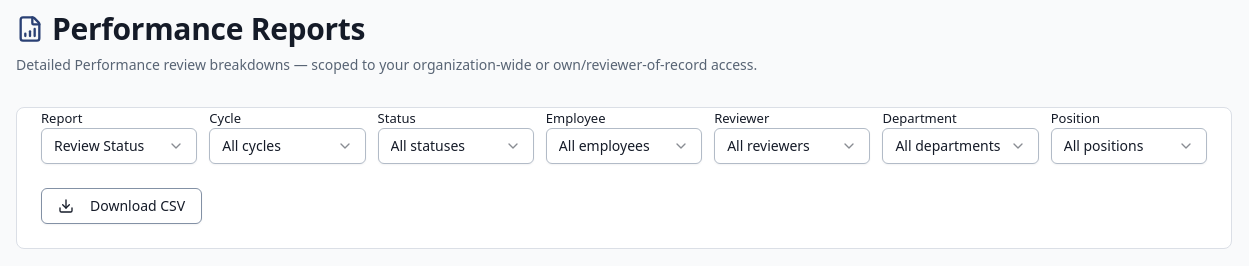
Performance Reports page › offers cycle/status/department/position/reviewer/employee filters
This screenshot has width=1249, height=266.
Click the dropdown with test id "select-performance-report-cycle".
click(287, 146)  # box [209,128,366,164]
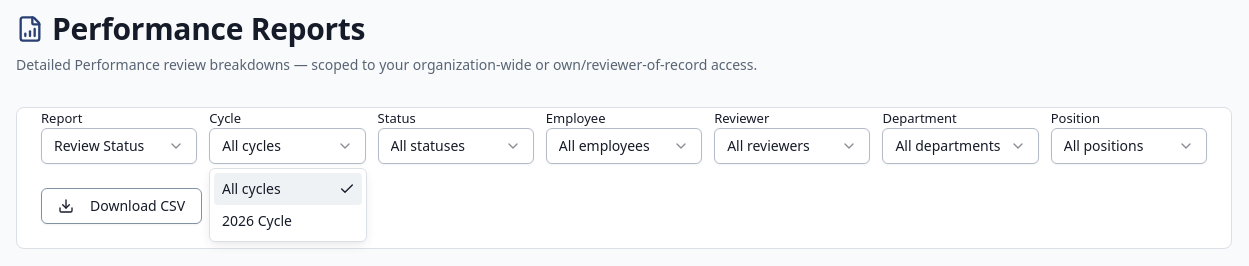
Expected: the option "2026 Cycle" is shown, [222,211,292,230]
Press Escape
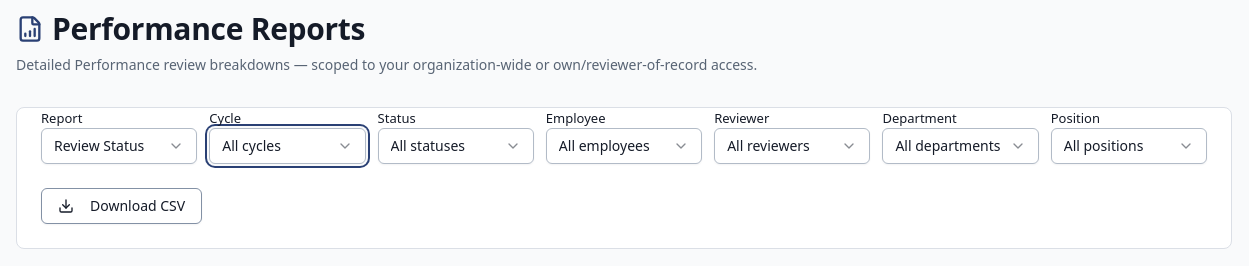
Click the dropdown with test id "select-performance-report-department".
click(961, 146)  # box [882,128,1039,164]
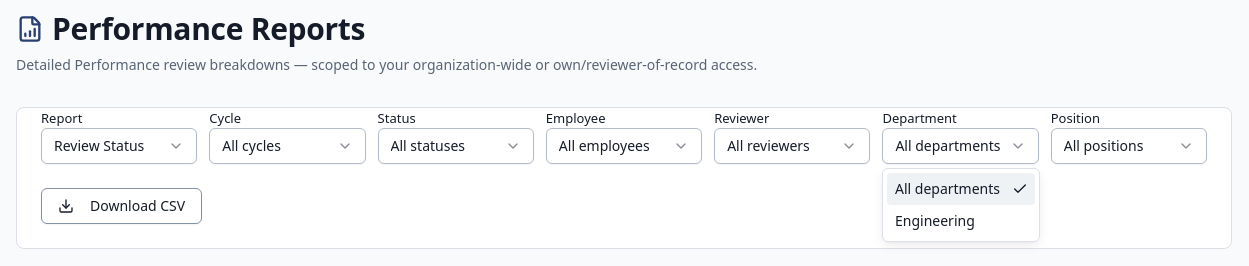
Expected: the option "Engineering" is shown, [895,211,975,230]
